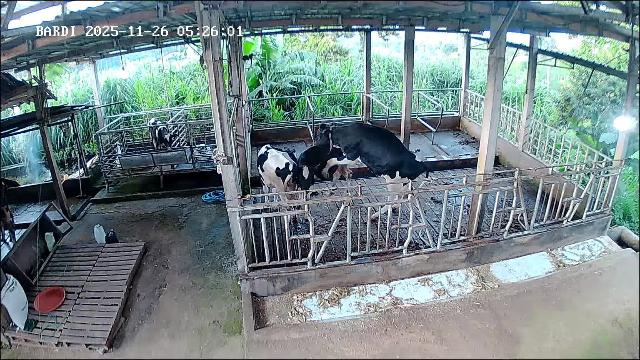mounting: (315, 122, 429, 220)
